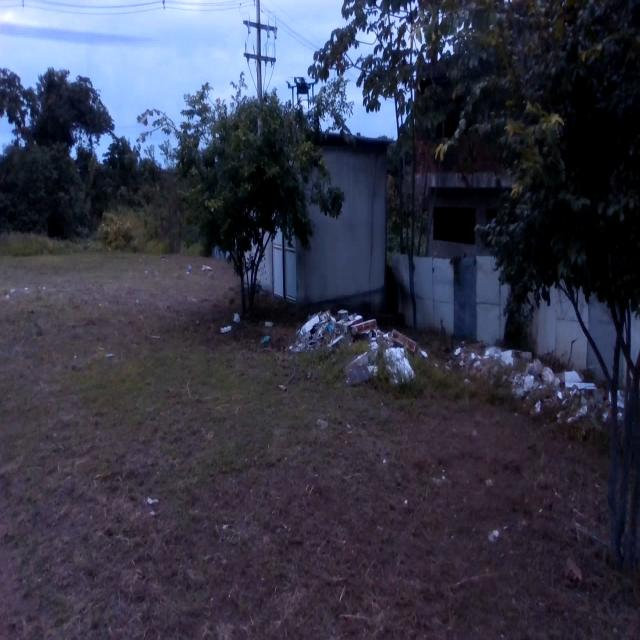-uav-: (278, 66, 324, 116)
